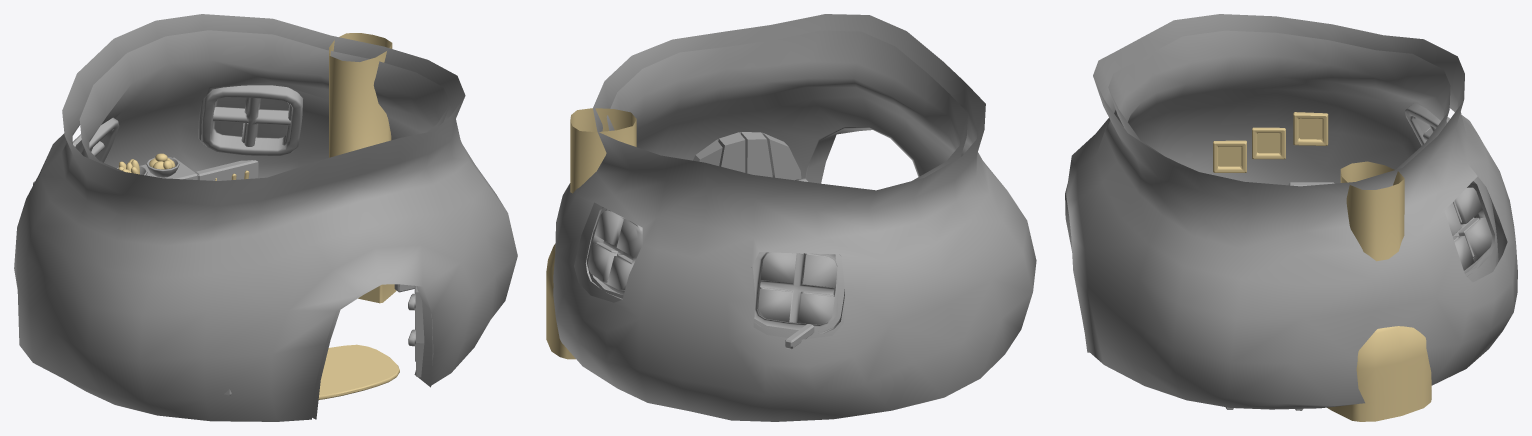
File: panaderia_interior_uvs_sinterminar.fbx
The picture shows the model from 3 angles, left to right: view 1: azimuth 30°, elevation 25°; view 2: azimuth 150°, elevation 25°; view 3: azimuth 270°, elevation 25°; orthographic projection. The views are drawn at different scales.
Parts seen in each view (by area): view 1: interior_panaderia1, interior_panaderia, ventana_cuadrada_T_high, horno, pPlane1, pCube35, ventana_cuadrada_T_high1, puerta_low, ventana_cuadrada1_low; view 2: interior_panaderia1, interior_panaderia, ventana_cuadrada1_low1, horno, puerta_low, ventana_cuadrada1_low; view 3: interior_panaderia1, interior_panaderia, horno, ventana_cuadrada1_low, cuadro, cuadro2, cuadro1, ventana_cuadrada_T_high1.
Part boxes in pixels (box(x1,y1,x2,y2)): interior_panaderia1: box(14, 14, 517, 421); interior_panaderia: box(75, 30, 450, 419); ventana_cuadrada_T_high: box(201, 85, 302, 155); horno: box(329, 33, 396, 303); pPlane1: box(318, 344, 399, 399); pCube35: box(195, 160, 258, 180); ventana_cuadrada_T_high1: box(74, 117, 119, 162); puerta_low: box(414, 286, 424, 377); ventana_cuadrada1_low: box(198, 91, 291, 145); interior_panaderia1: box(553, 14, 1036, 421); interior_panaderia: box(574, 30, 967, 338); ventana_cuadrada1_low1: box(751, 252, 844, 333); horno: box(546, 108, 636, 359); puerta_low: box(693, 132, 801, 180); ventana_cuadrada1_low: box(585, 207, 642, 299); interior_panaderia1: box(1065, 14, 1517, 409); interior_panaderia: box(1066, 30, 1498, 352); horno: box(1327, 161, 1431, 421); ventana_cuadrada1_low: box(1444, 181, 1495, 276); cuadro: box(1293, 112, 1328, 145); cuadro2: box(1252, 127, 1285, 159); cuadro1: box(1213, 140, 1246, 172); ventana_cuadrada_T_high1: box(1405, 103, 1448, 145).
Bounding box in the file's own units: 34.41 × 19.86 × 31.79.
